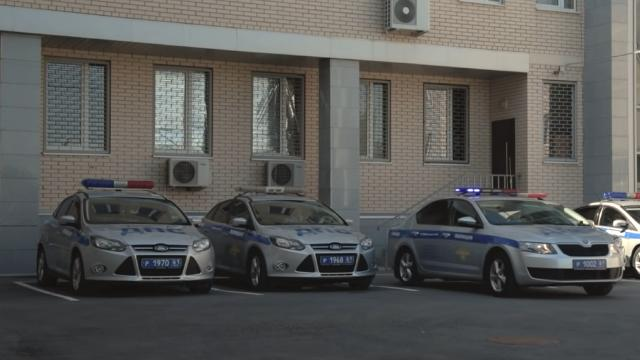police car: (391, 189, 626, 298), (36, 175, 217, 299), (204, 179, 375, 293), (576, 185, 640, 281)
